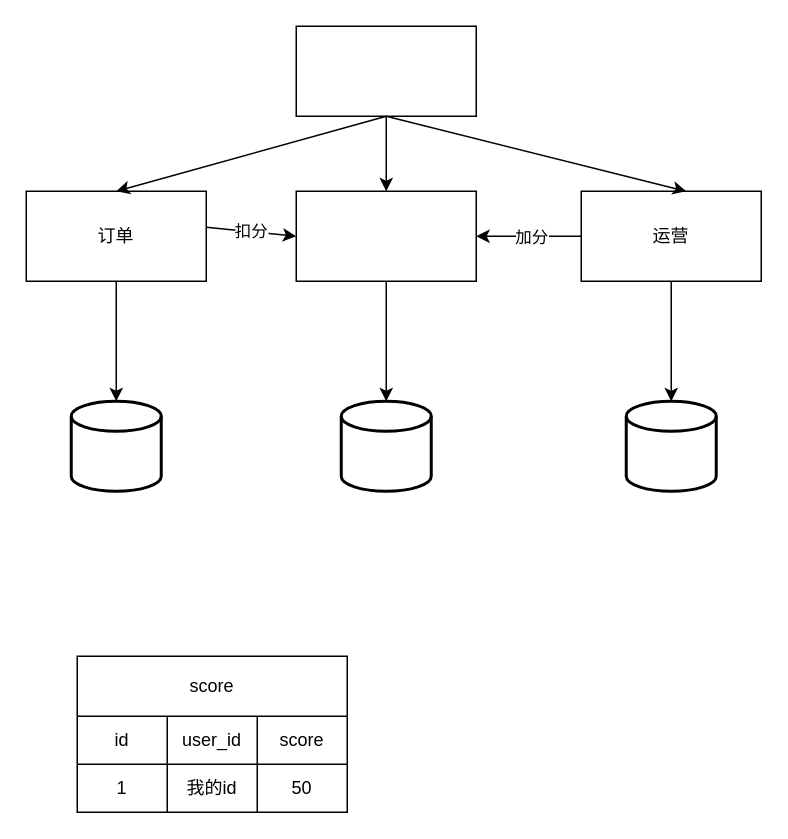
This 788x839 diagram has some shape labels left out. The box of each missing label's shape, as (x1, y1, x2, y2) in pixels:
积分: (295, 190, 476, 281)
网关: (295, 25, 476, 116)
